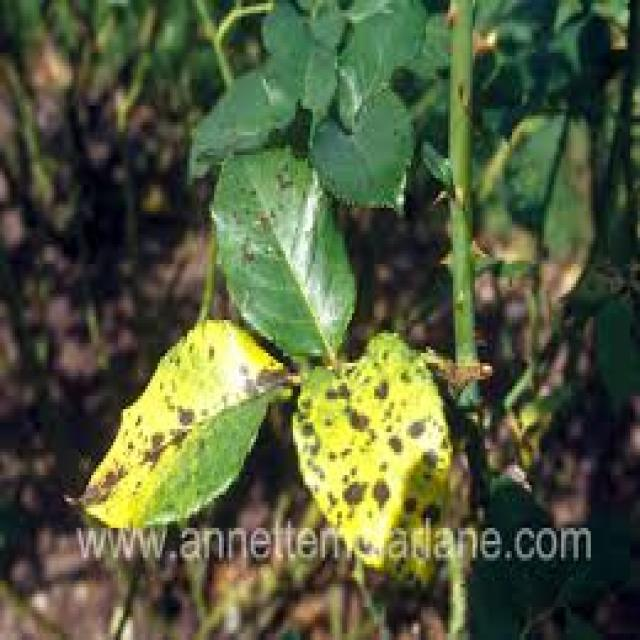bercak_daun: (74, 324, 292, 534), (296, 325, 455, 539)
